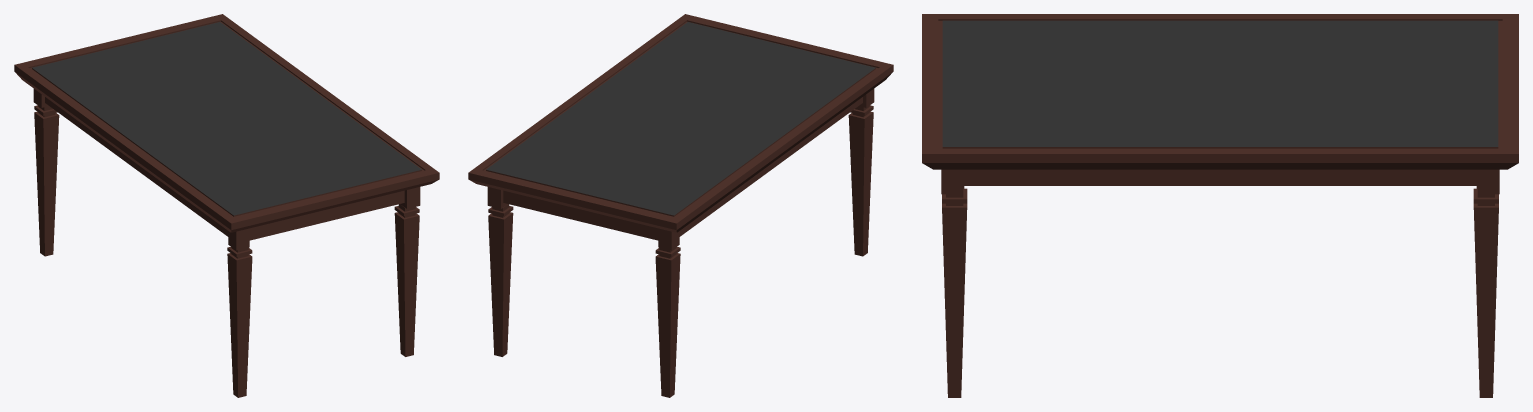
File: gamedevtraum-mesa-rectangular-1.fbx
3 views of the same model, side by side, from view 1: azimuth 30°, elevation 25°; view 2: azimuth 150°, elevation 25°; view 3: azimuth 270°, elevation 25° (orthographic). The views are drawn at different scales.
Parts seen in each view (by area): view 1: gamedevtraum-rectangular-table-1; view 2: gamedevtraum-rectangular-table-1; view 3: gamedevtraum-rectangular-table-1.
Part boxes in pixels (bbox=[...]): gamedevtraum-rectangular-table-1: bbox=[14, 14, 439, 397]; gamedevtraum-rectangular-table-1: bbox=[468, 14, 893, 397]; gamedevtraum-rectangular-table-1: bbox=[922, 14, 1518, 397].
Bounding box in the file's own units: 116 × 98.64 × 209.
